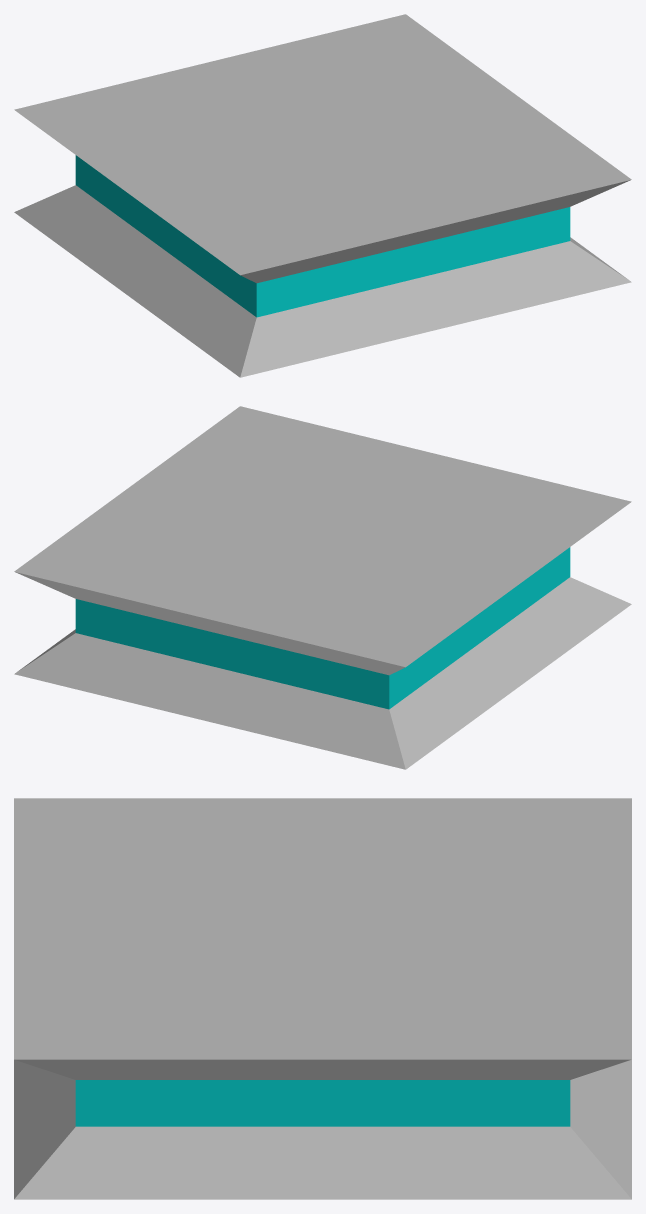
The model's file is BasicPlatform.fbx.
The picture shows the model from 3 angles, top to bottom: view 1: azimuth 30°, elevation 25°; view 2: azimuth 150°, elevation 25°; view 3: azimuth 270°, elevation 25°; orthographic projection. The views are drawn at different scales.
Parts seen in each view (by area): view 1: Cube; view 2: Cube; view 3: Cube.
Boxes of the visible parts, x1,y1,x2,y2 form: Cube: (14, 14, 631, 377); Cube: (14, 406, 631, 769); Cube: (14, 798, 631, 1199).
Size of the model in its own units: 200 by 50 by 200.
